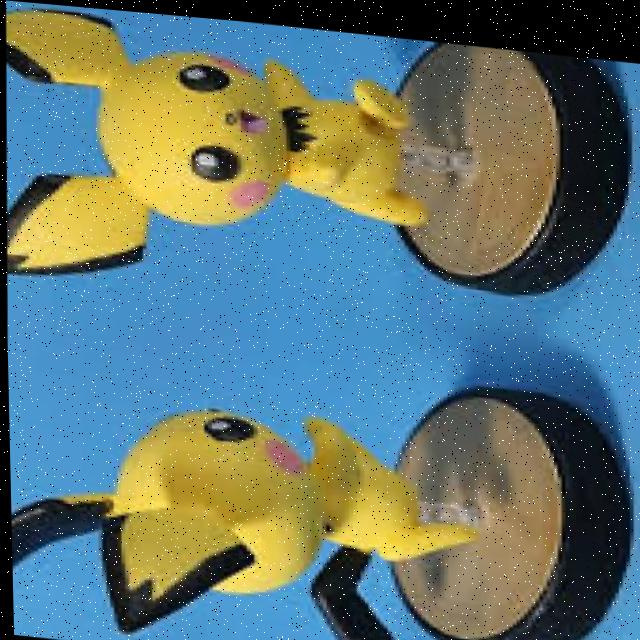pichu: (0, 0, 424, 316)
